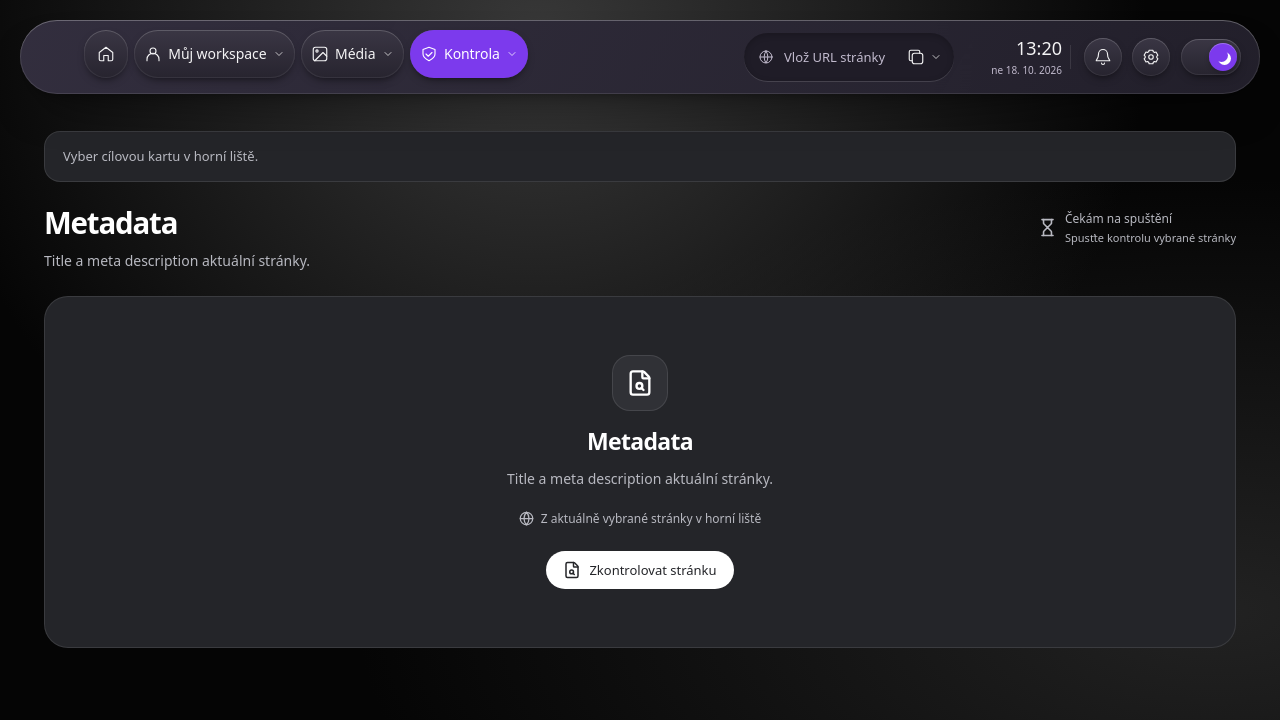
Test: working tool routes › explains missing browser access instead of showing made-up audit results
(page scrolled)
Click the button "Zkontrolovat stránku" at (640,570), box [546,551,734,589]
(page scrolled)
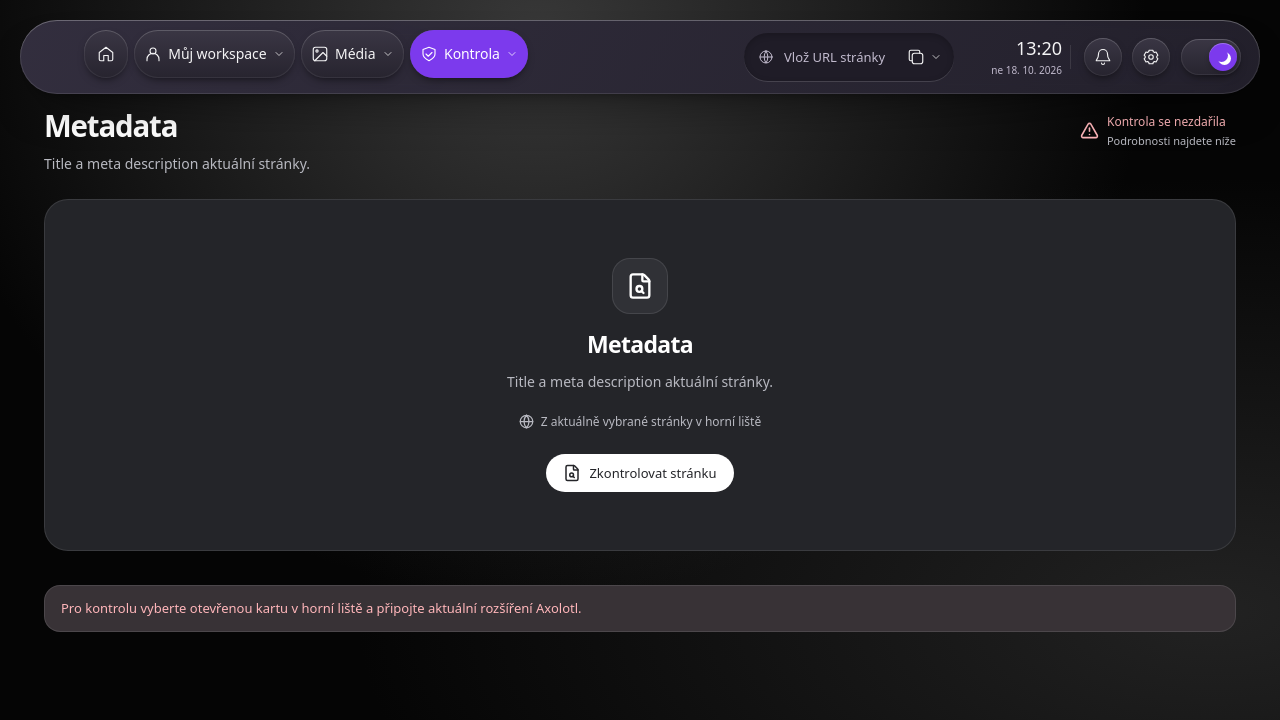
Expected: the text "Pro kontrolu vyberte otevřenou kartu" is shown, [61,599,582,617]
